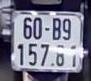0: (34, 15, 43, 41)
1: (16, 42, 25, 67), (69, 44, 77, 68)
5: (28, 42, 38, 66)
6: (23, 16, 32, 38)
7: (40, 42, 50, 66)
8: (54, 44, 65, 67)
9: (62, 17, 71, 42)
B: (52, 17, 61, 40)
